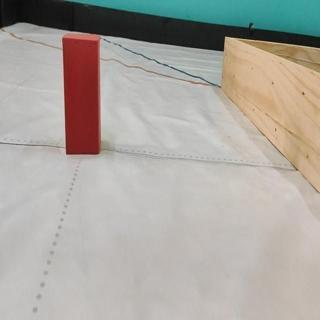redbox: (61, 31, 102, 154)
